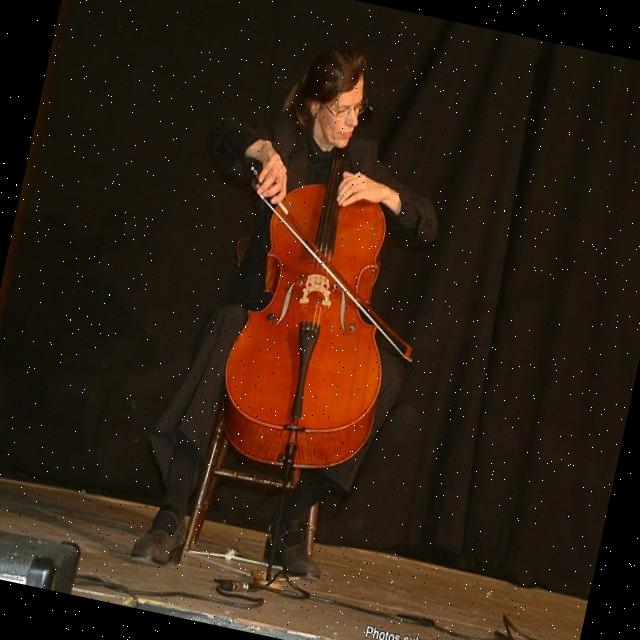cello: (204, 118, 433, 489)
